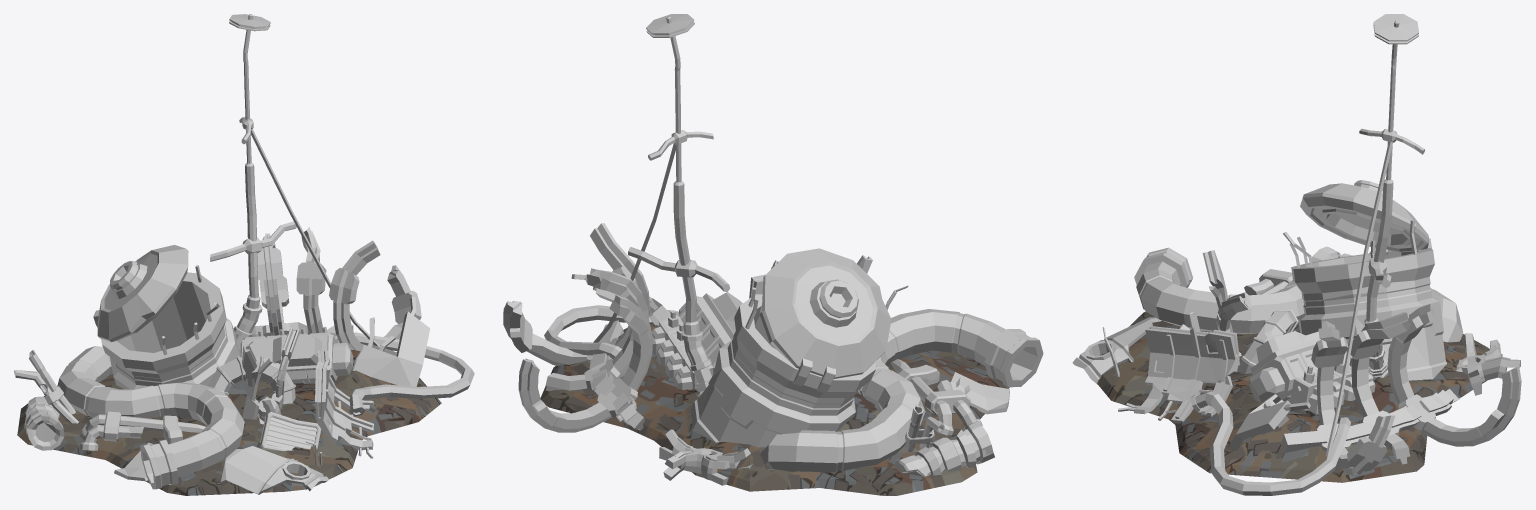
Rendered from SM_Prop_Scav_Scrap_Pile_02.fbx.
The picture shows the model from 3 angles, left to right: view 1: azimuth 30°, elevation 25°; view 2: azimuth 150°, elevation 25°; view 3: azimuth 270°, elevation 25°; orthographic projection. The views are drawn at different scales.
Parts seen in each view (by area): view 1: SM_Prop_Scav_Scrap_Pile_02; view 2: SM_Prop_Scav_Scrap_Pile_02; view 3: SM_Prop_Scav_Scrap_Pile_02.
Boxes of the visible parts, x1=… form: SM_Prop_Scav_Scrap_Pile_02: x1=14, y1=14, x2=474, y2=495; SM_Prop_Scav_Scrap_Pile_02: x1=503, y1=14, x2=1043, y2=495; SM_Prop_Scav_Scrap_Pile_02: x1=1072, y1=14, x2=1521, y2=495.
Size of the model in its own units: 2566 by 2270 by 2187.
